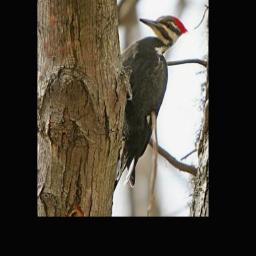Woodpecker: (112, 14, 188, 193)
